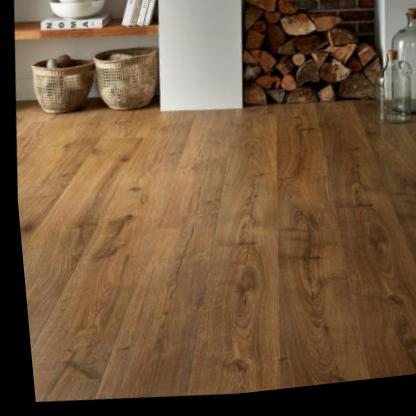Wooden floor: (14, 101, 416, 402)
